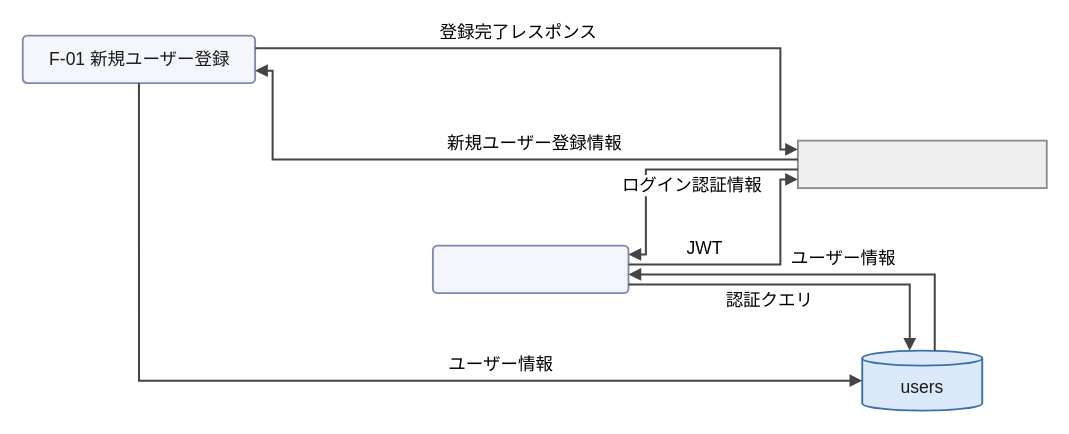
Some shapes in this 1069 by 434 pixel diagram are drawn without their labels. Each missing label, with the centre of its shape:
"F-02 ログイン認証" belongs at pixel 530 269.
"ユーザー (Web Browser)" belongs at pixel 921 163.
